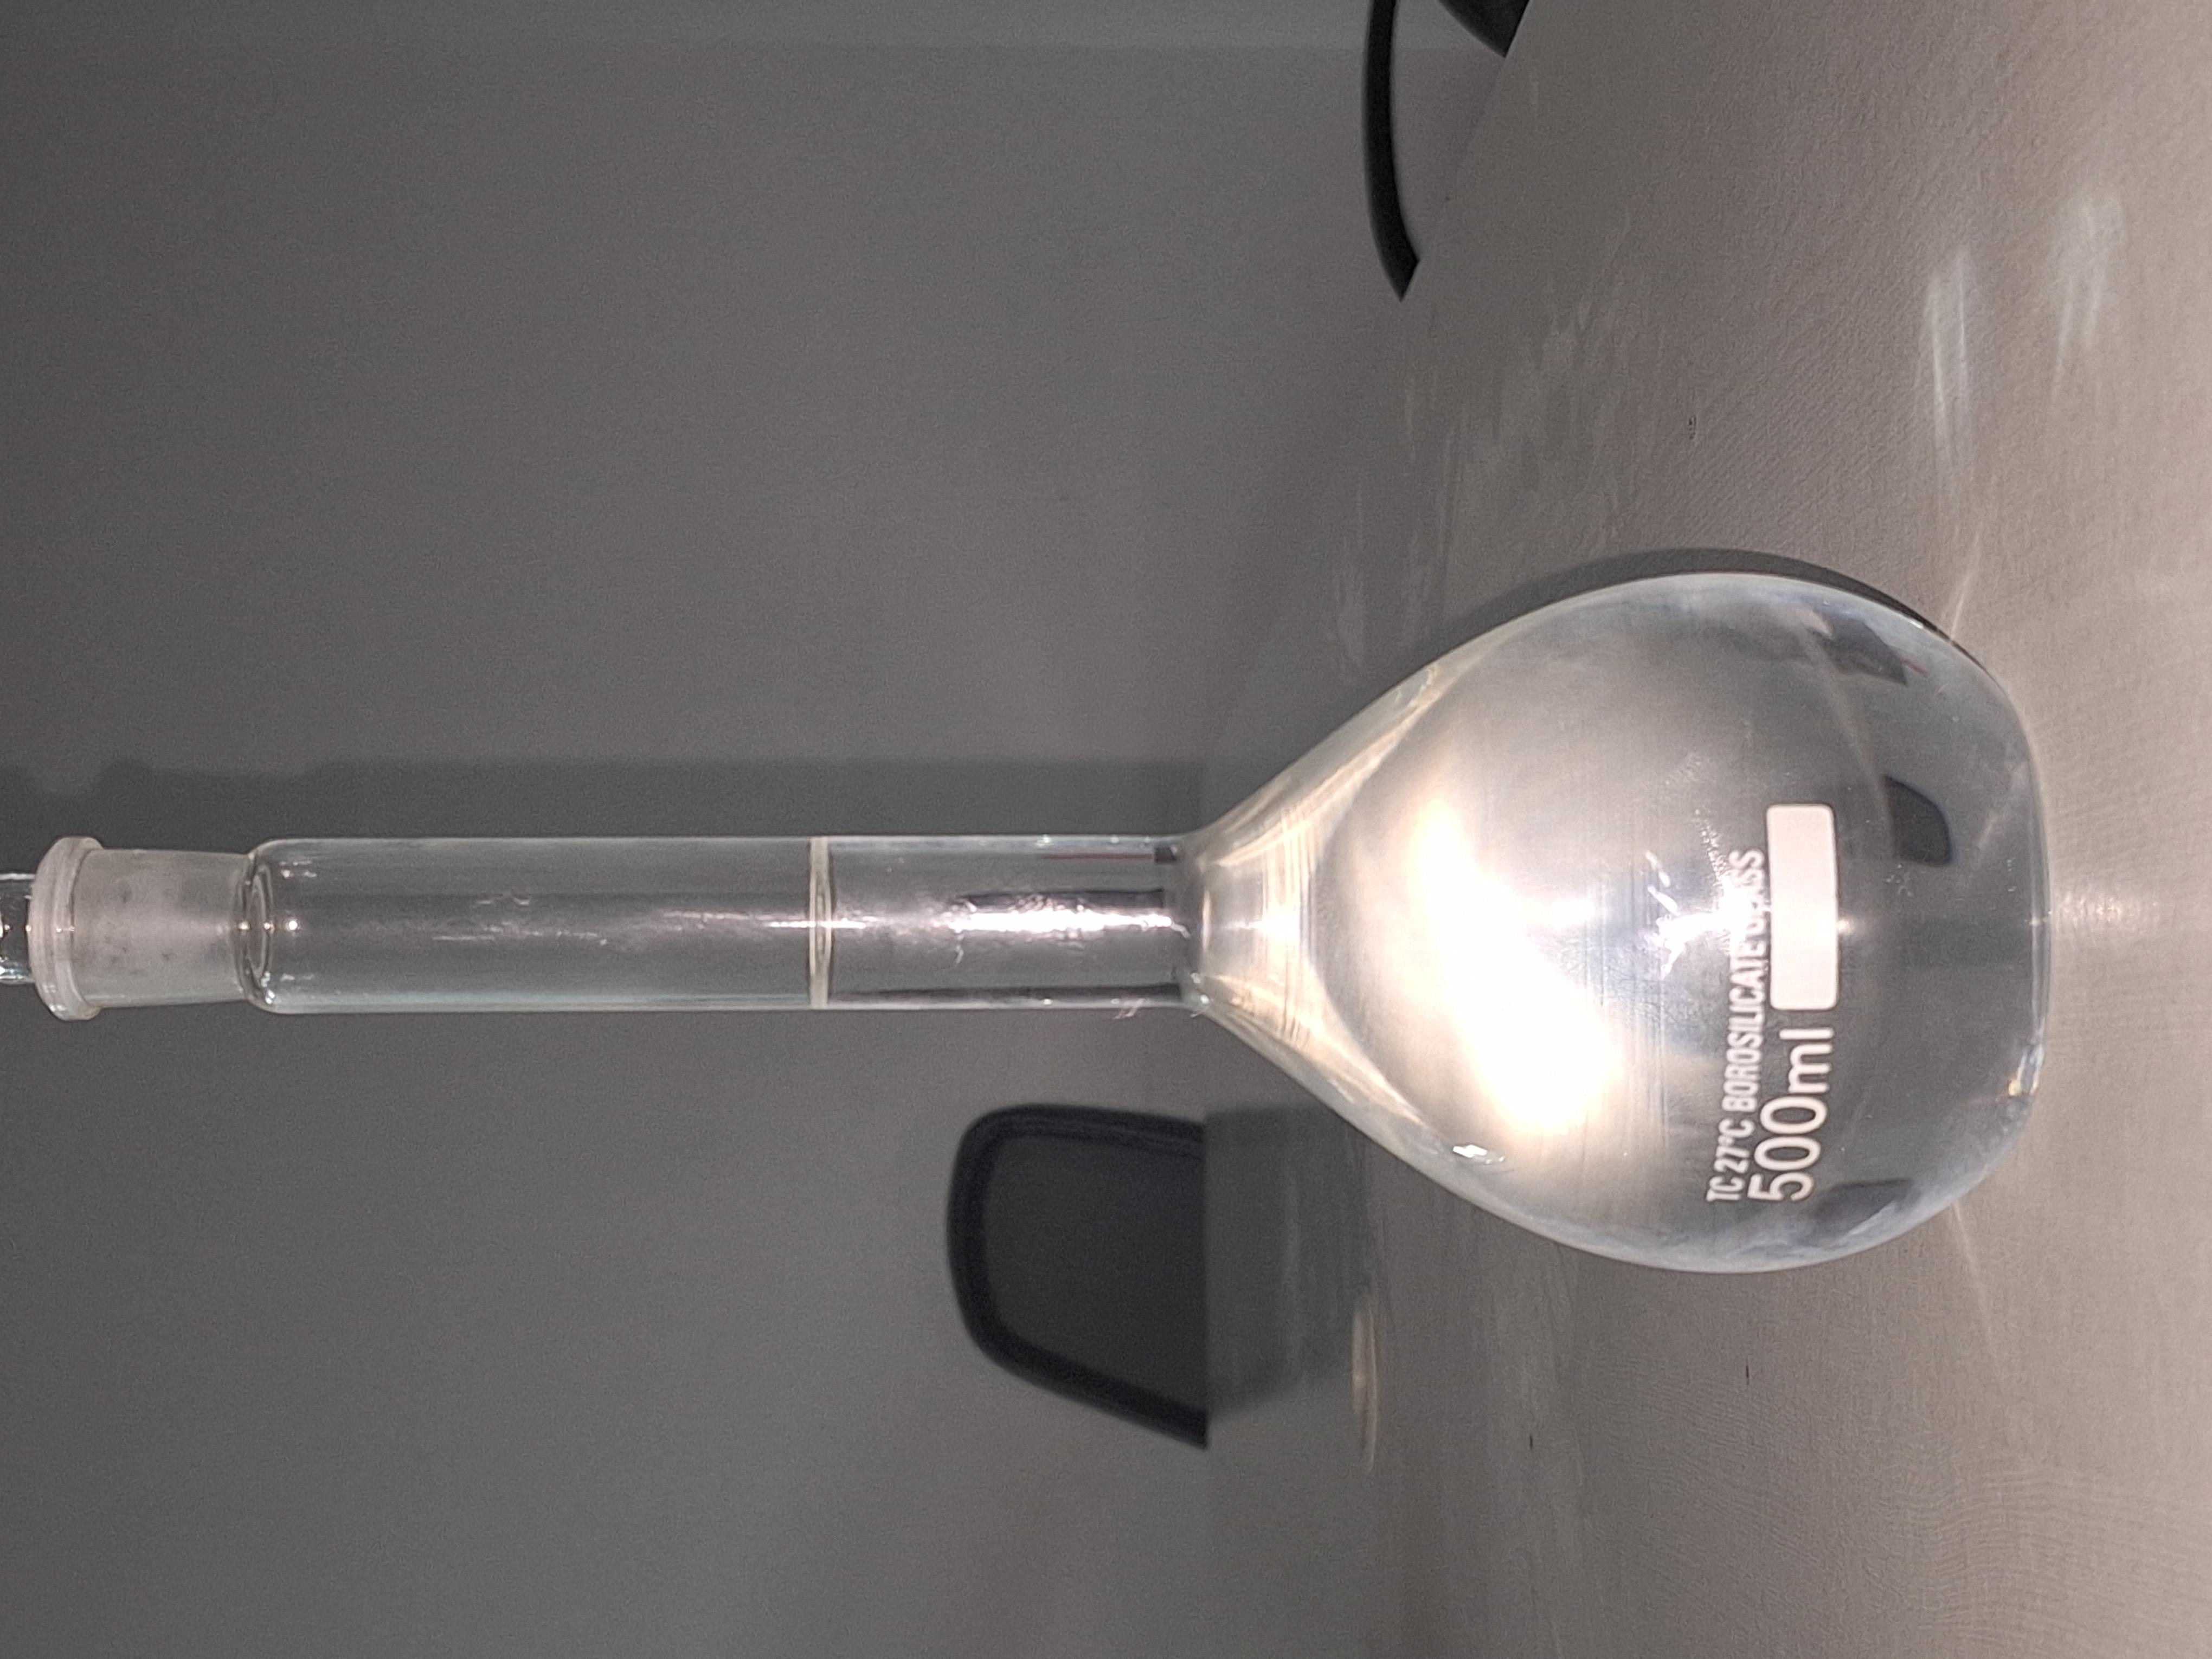Volumetric flask: (521, 21, 1475, 1528)
